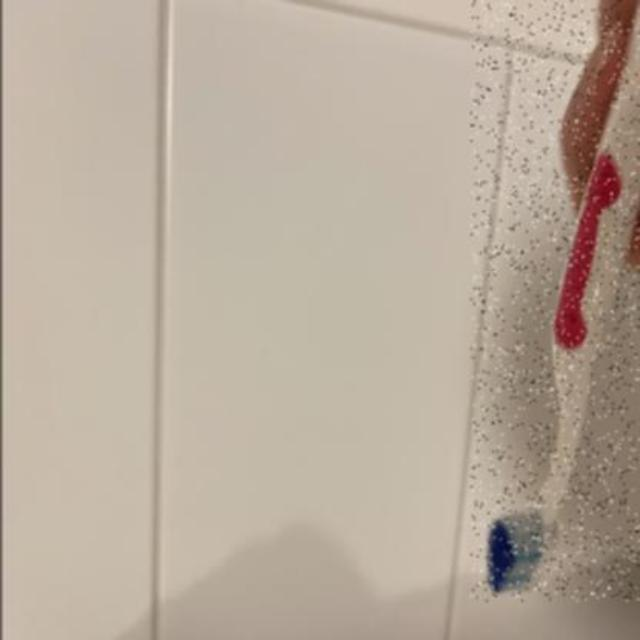toothbrush: (470, 1, 640, 602)
